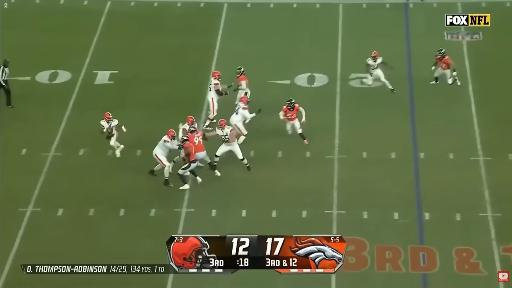Helmet: (186, 116, 195, 126), (218, 119, 227, 129), (287, 99, 295, 110), (240, 96, 249, 105), (104, 112, 112, 122), (167, 130, 175, 139), (212, 71, 221, 79), (236, 67, 244, 76), (181, 135, 189, 143), (437, 48, 445, 56), (188, 127, 198, 133), (371, 51, 378, 59)
Jersey: (155, 136, 178, 155), (230, 105, 254, 123), (188, 132, 205, 153), (282, 104, 300, 121), (100, 119, 118, 135), (216, 126, 232, 142), (180, 123, 197, 138), (208, 78, 220, 98), (184, 142, 196, 161), (367, 57, 382, 71), (435, 56, 450, 70), (237, 74, 249, 91)
Player: (205, 119, 251, 170), (149, 130, 180, 186), (188, 127, 220, 176), (230, 96, 261, 143), (204, 71, 229, 129), (363, 52, 395, 92), (279, 99, 307, 144), (178, 135, 201, 189), (101, 112, 123, 157), (431, 49, 459, 84), (234, 67, 250, 104), (179, 116, 197, 138), (180, 116, 197, 138)
